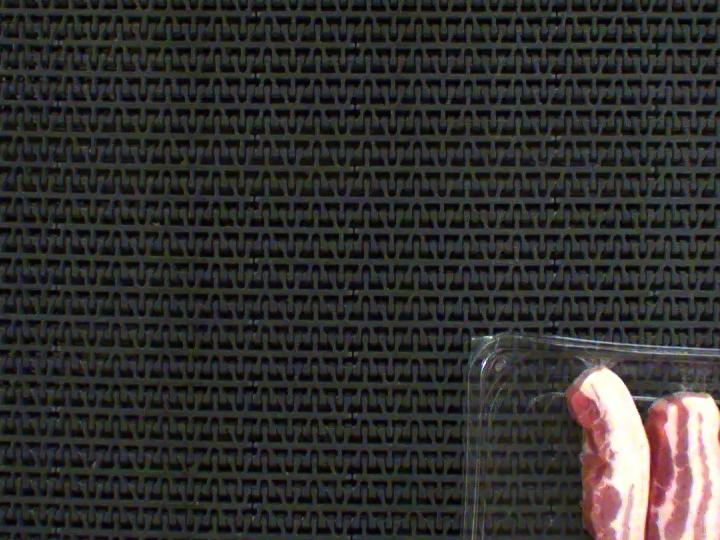packaging-error: (571, 351, 619, 379)
